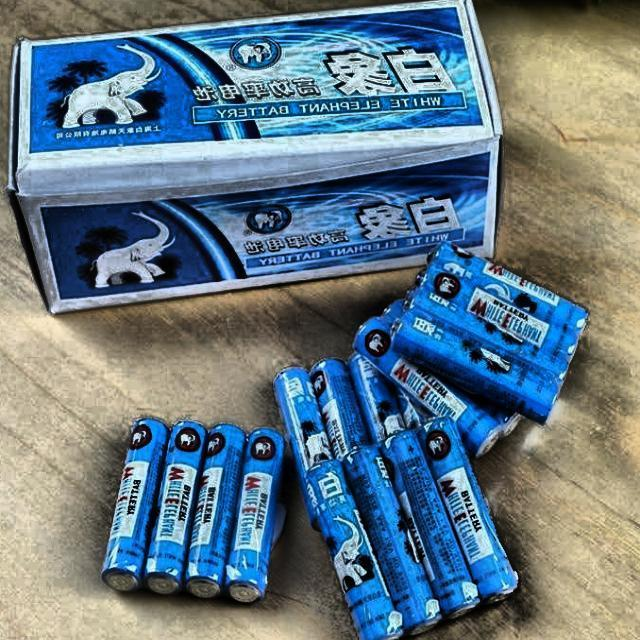battery: (309, 418, 518, 640), (393, 243, 587, 421), (101, 418, 169, 591), (144, 421, 208, 594), (184, 424, 247, 599), (226, 429, 285, 602)
